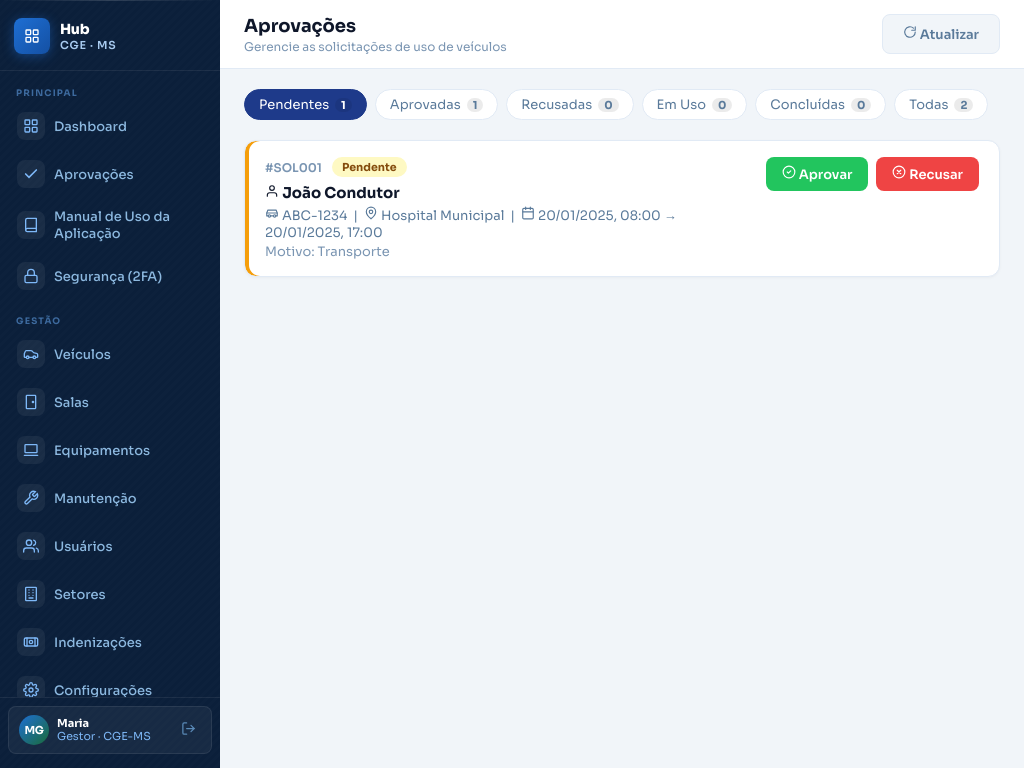
Aprovacoes — interação de recusa › clicar Recusar exibe campo de motivo
Click the button "Recusar" at (928, 174), box [876,157,979,191]
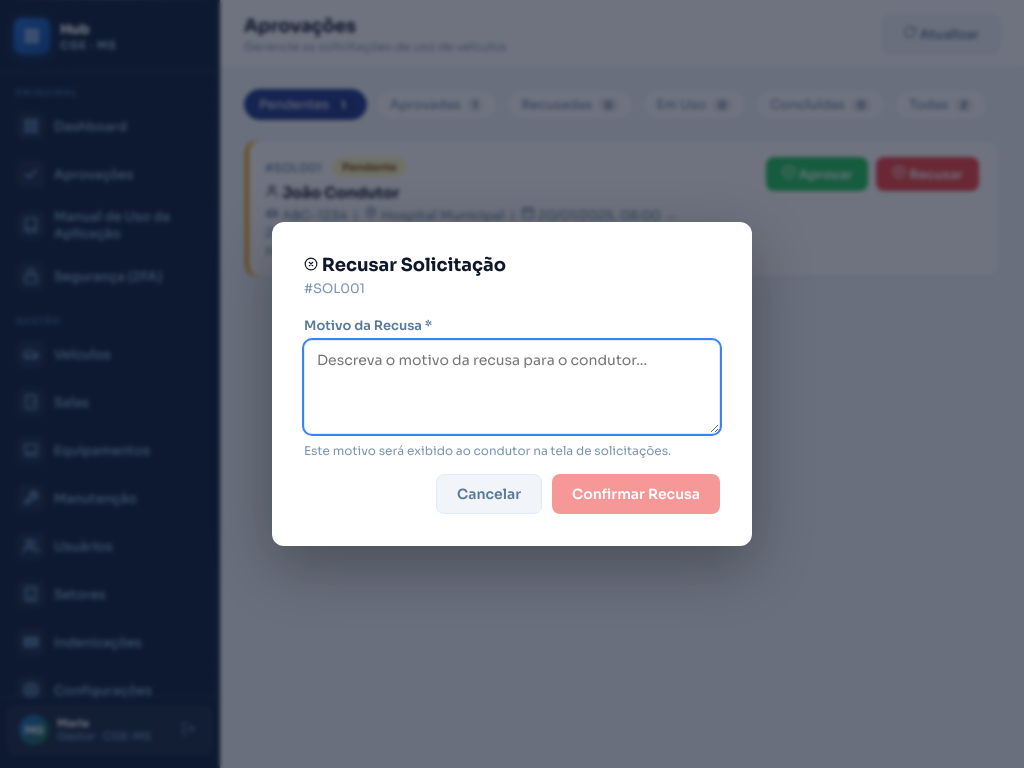
Expected: the text box with placeholder "Descreva o motivo da recusa para o condutor..." is shown, [304,340,720,434]
